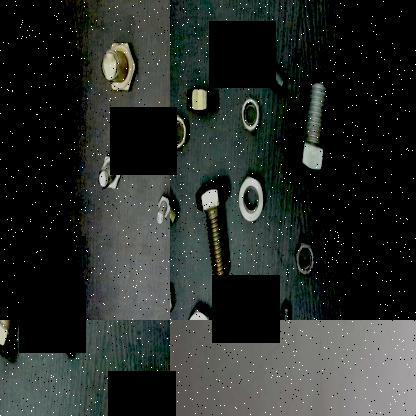Bolts: (193, 176, 235, 281), (293, 80, 336, 178), (244, 23, 288, 97), (100, 37, 140, 102), (50, 320, 105, 354), (0, 320, 36, 365), (95, 148, 125, 197), (149, 192, 170, 230)
NUTS: (182, 74, 219, 124), (234, 167, 266, 224), (237, 92, 265, 142), (290, 236, 318, 280), (233, 275, 256, 320), (170, 109, 193, 149), (183, 305, 209, 320)
